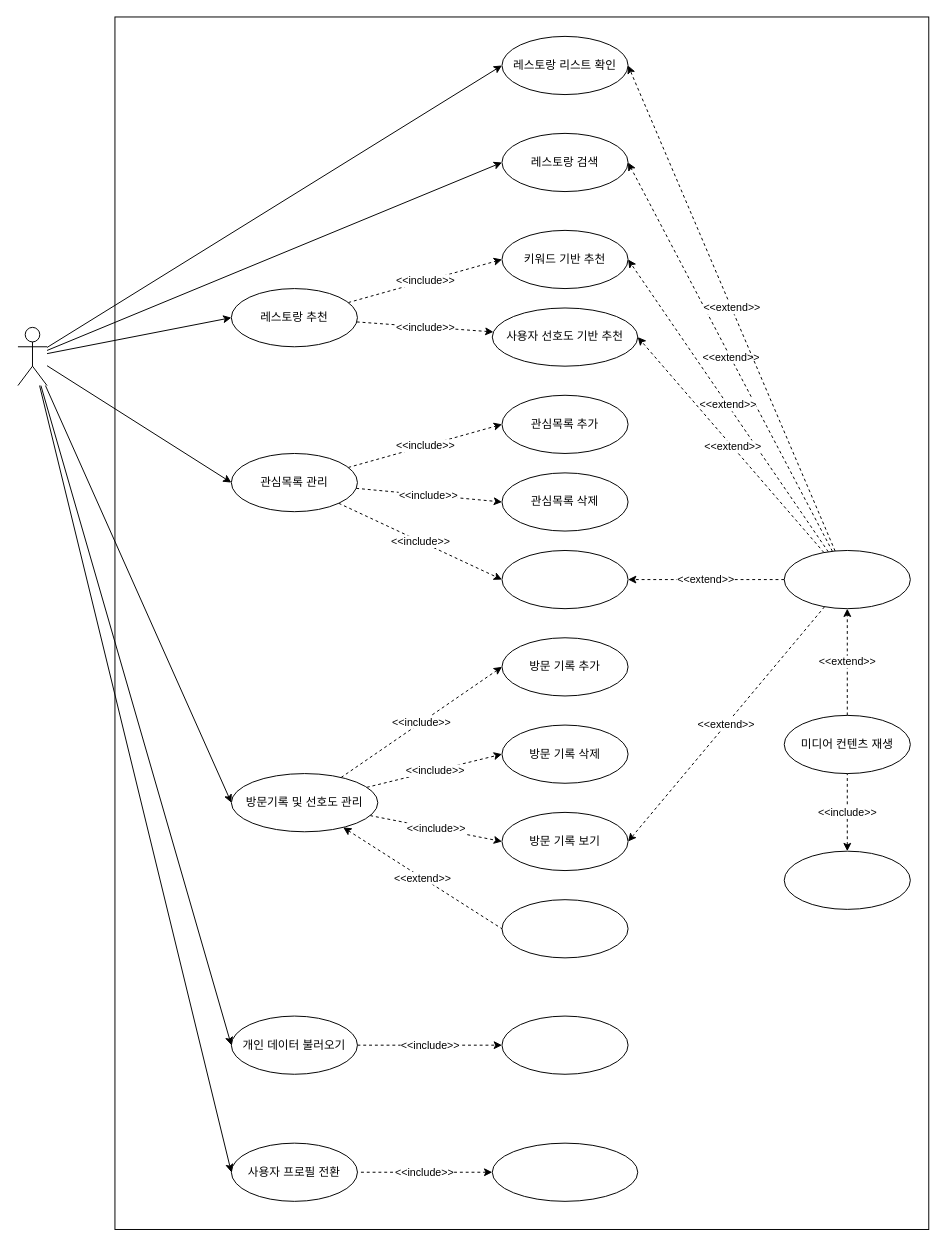
The diagram is 946 pixels wide and 1246 high, and some of its shapes have lost their labels. Each missing label, with the centre of its shape:
"관심목록 보기" goes at pixel 564 579.
"레스토랑 정보 확인" goes at pixel 846 579.
"로그인" goes at pixel 564 1044.
"사용자" goes at pixel 32 356.
"재생 기록 저장" goes at pixel 846 879.
"좋아요 / 싫어요" goes at pixel 564 928.
"프로필 별 정보 불러오기" goes at pixel 564 1171.
